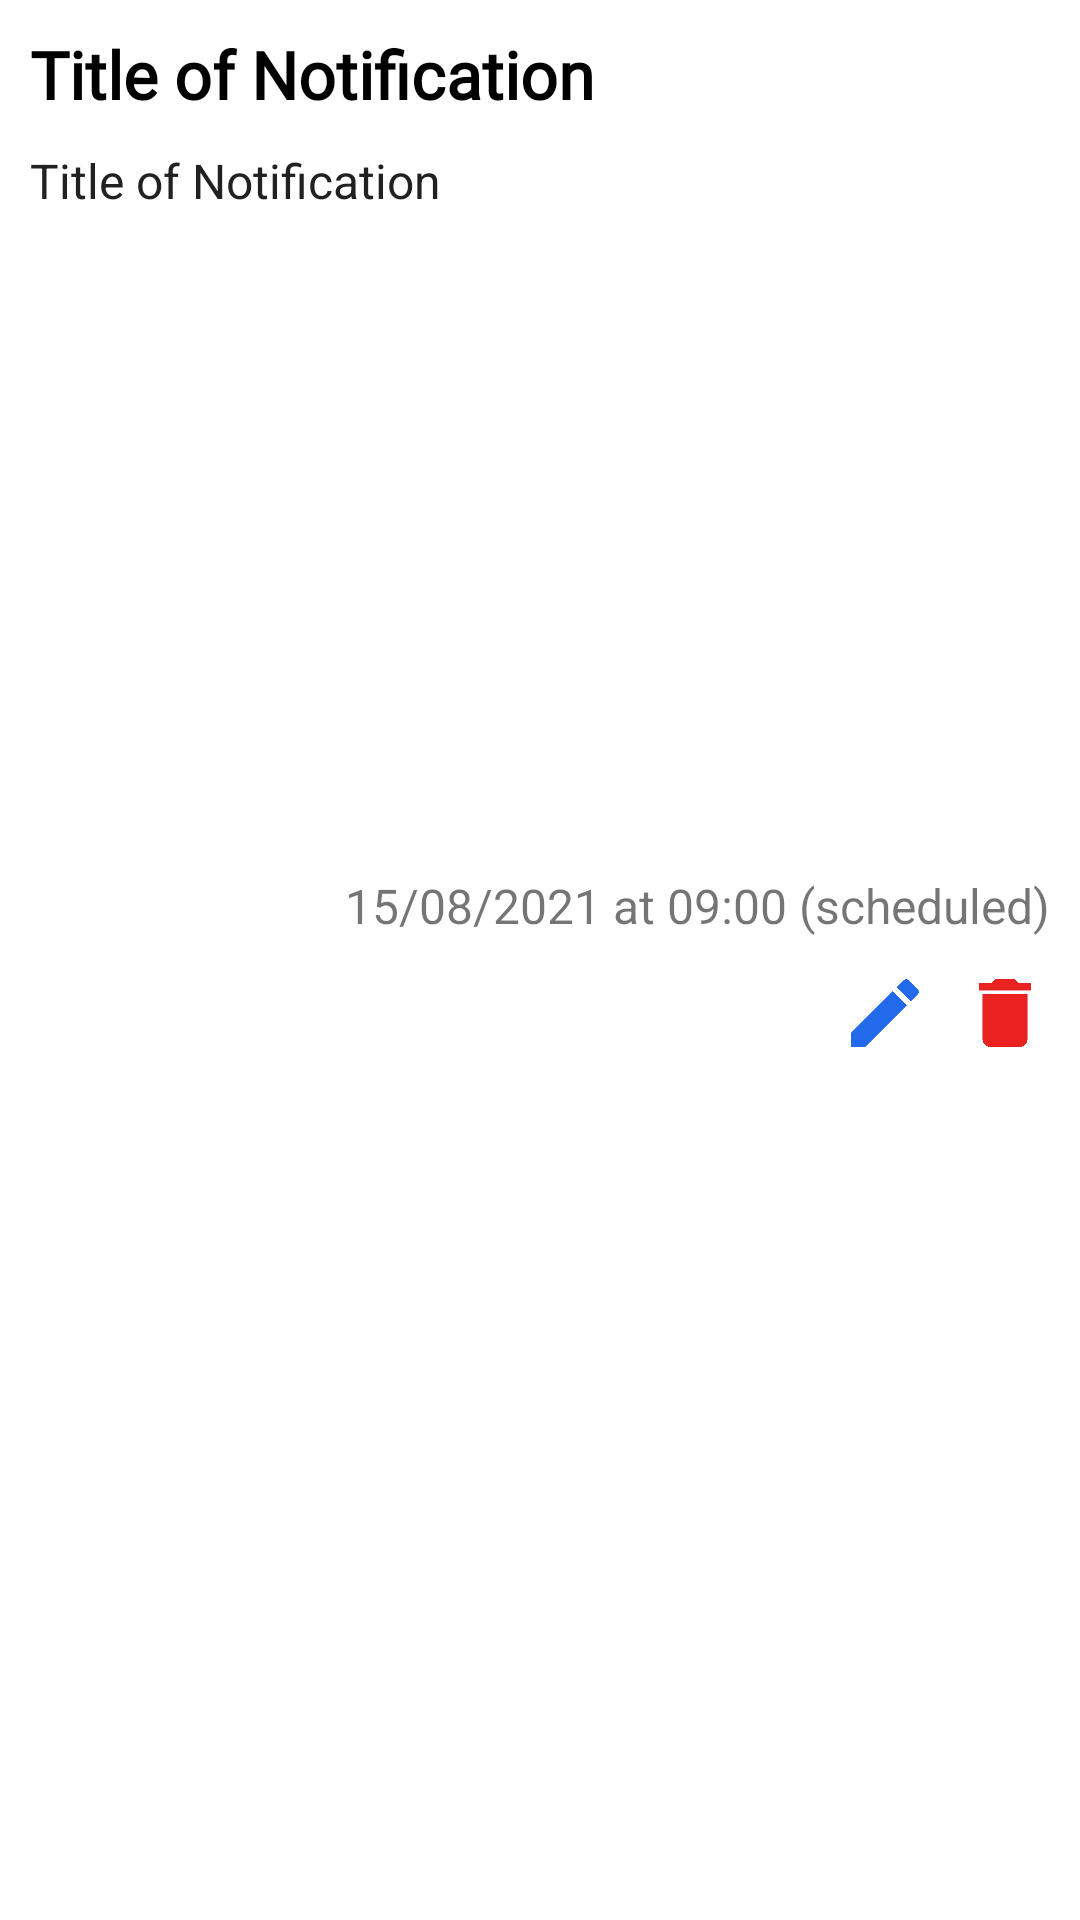

Screen size 1080*1920. Icon name, then its box in pixels as (x1=x1, y1=y1, x2=x2, y2=y2):
delete: (x1=979, y1=979, x2=1031, y2=1047)
edit: (x1=851, y1=979, x2=919, y2=1047)
